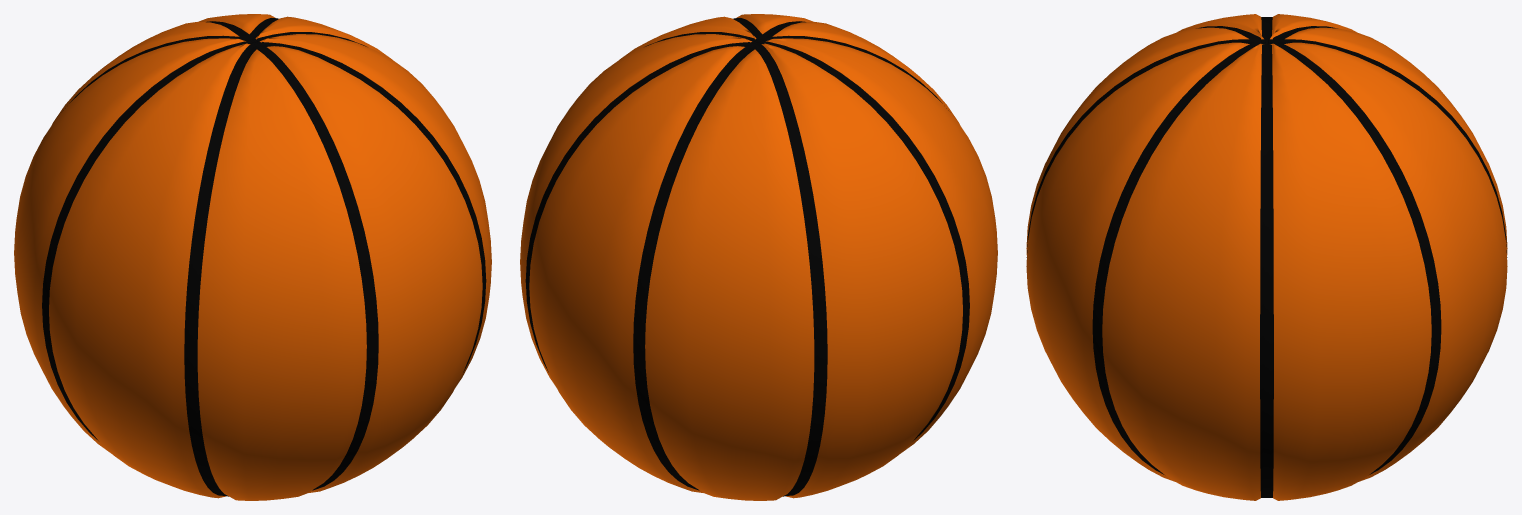
3 views of the same model, side by side, from view 1: azimuth 30°, elevation 25°; view 2: azimuth 150°, elevation 25°; view 3: azimuth 270°, elevation 25° (orthographic).
Visible parts, largest first — view 1: Basket ball_0; view 2: Basket ball_0; view 3: Basket ball_0.
Boxes of the visible parts, x1=… form: Basket ball_0: x1=14, y1=14, x2=491, y2=500; Basket ball_0: x1=520, y1=14, x2=997, y2=500; Basket ball_0: x1=1026, y1=14, x2=1507, y2=500.
Bounding box in the file's own units: 1.95 × 1.96 × 1.95.
